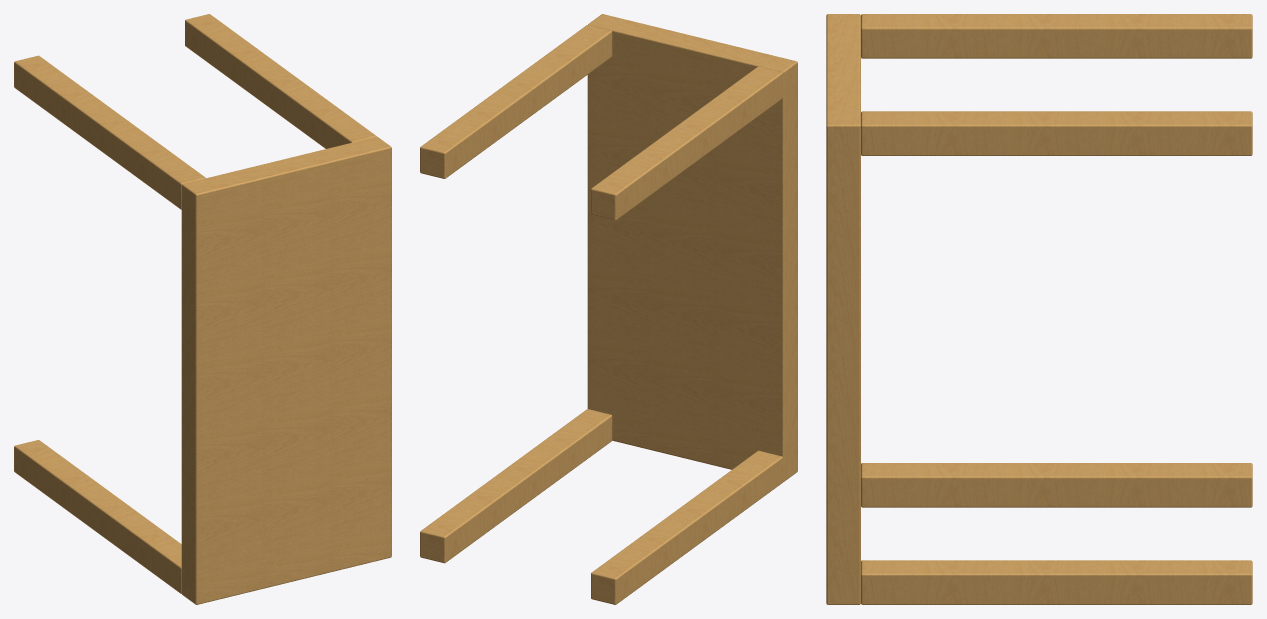
3 renders of one model, left to right at view 1: azimuth 30°, elevation 25°; view 2: azimuth 150°, elevation 25°; view 3: azimuth 270°, elevation 25°, orthographic. The views are drawn at different scales.
Parts seen in each view (by area): view 1: arat_standard_shelf; view 2: arat_standard_shelf; view 3: arat_standard_shelf.
Boxes of the visible parts, <box> form: arat_standard_shelf: <box>14,14,391,604</box>; arat_standard_shelf: <box>420,14,797,604</box>; arat_standard_shelf: <box>826,14,1252,604</box>.
Size of the model in its own units: 0.23 by 0.46 by 0.37.
1 material, 1 textured.
